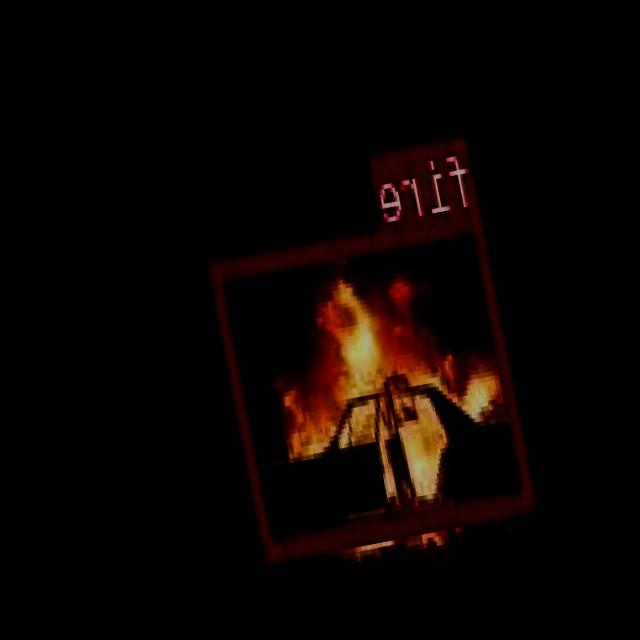fire: (210, 207, 540, 556)
